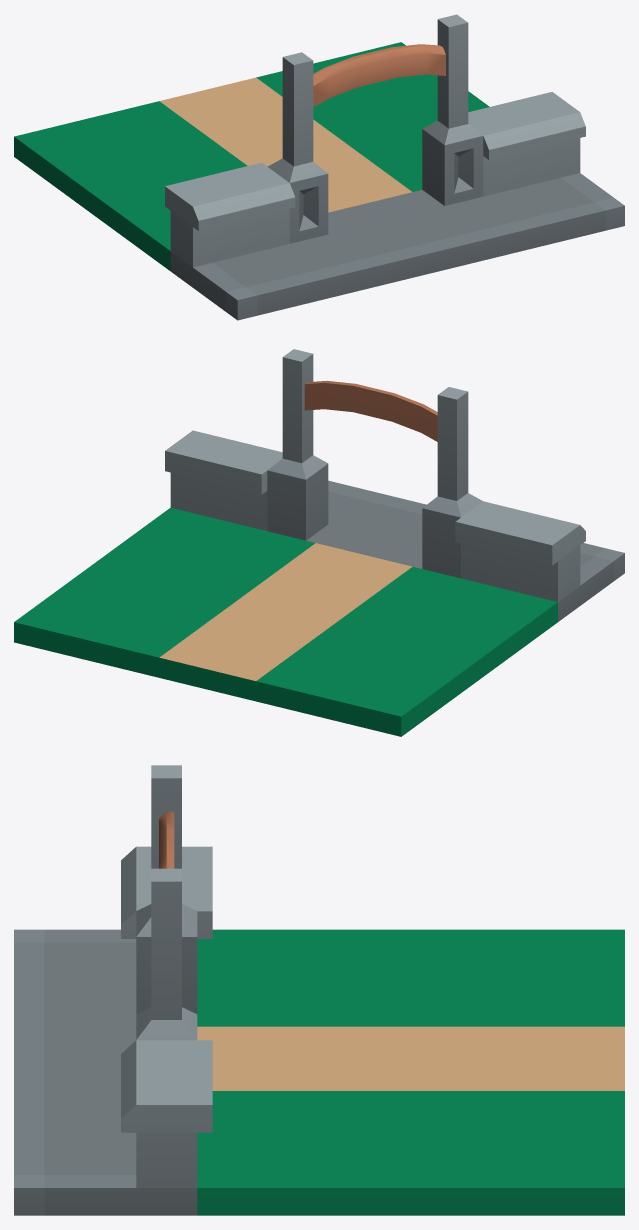
File: park_wall_entry.glb
3 views of the same model, one above another, from view 1: azimuth 30°, elevation 25°; view 2: azimuth 150°, elevation 25°; view 3: azimuth 270°, elevation 25° (orthographic). The views are drawn at different scales.
Parts seen in each view (by area): view 1: park_wall_entry; view 2: park_wall_entry; view 3: park_wall_entry.
Boxes of the visible parts, x1,y1,x2,y2 form: park_wall_entry: (14,14,624,320); park_wall_entry: (14,349,624,736); park_wall_entry: (14,765,624,1215).
Bounding box in the file's own units: 2 × 0.95 × 2.
Materials: 1 (1 with a texture image).
